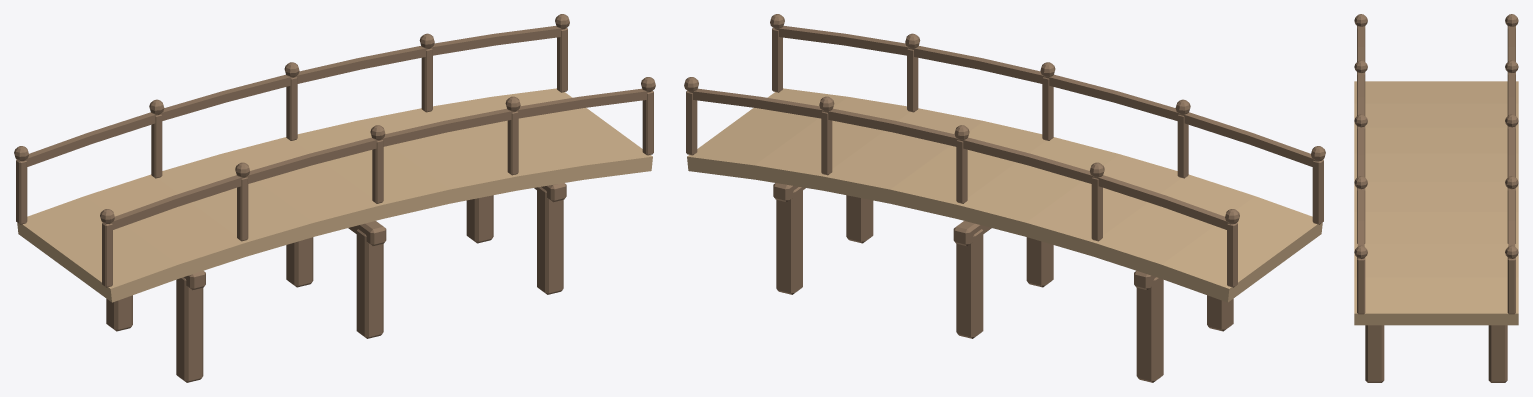
Rendered from feudal-japan-castle-town-moat-bridge-26e42d30__26597.glb.
3 renders of one model, left to right at view 1: azimuth 30°, elevation 25°; view 2: azimuth 150°, elevation 25°; view 3: azimuth 270°, elevation 25°, orthographic. The views are drawn at different scales.
Visible parts, largest first — view 1: moat-bridge; view 2: moat-bridge; view 3: moat-bridge.
Part boxes in pixels (bbox=[...]): moat-bridge: bbox=[14, 14, 655, 382]; moat-bridge: bbox=[684, 14, 1325, 382]; moat-bridge: bbox=[1354, 14, 1518, 382].
Size of the model in its own units: 8.2 by 3.03 by 2.4.
